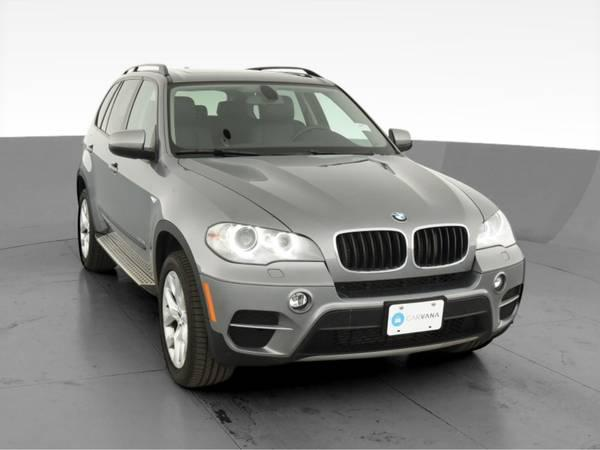Front_Bumper: (195, 245, 532, 374)
Front_Fender: (147, 156, 293, 285)
Front_Right_Door: (109, 145, 155, 278)
Front_Right_Window: (119, 79, 160, 164)
Front_Windshield: (170, 85, 402, 159)
Grille: (316, 226, 480, 287)
Hood: (184, 159, 501, 235)
Left_Headlight: (478, 206, 517, 249)
Left_Mirror: (390, 126, 414, 151)
Rear_Right_Door: (78, 129, 114, 231)
Rear_Right_Window: (95, 80, 140, 141)
Right_Headlight: (205, 221, 326, 267)
Roof: (115, 67, 339, 161)
Wheel: (155, 252, 232, 388), (77, 192, 117, 272)
